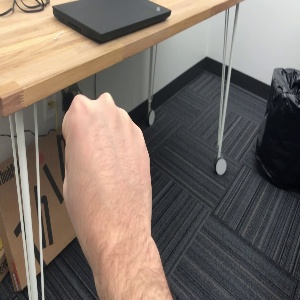hand: (62, 91, 152, 231)
